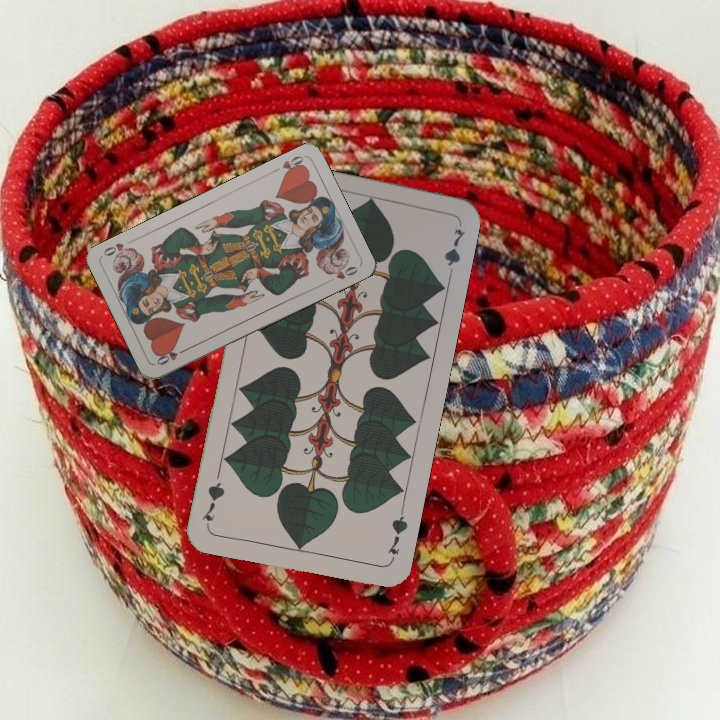G7: (383, 505, 411, 564)
HO: (269, 152, 307, 179), (152, 344, 190, 368)
